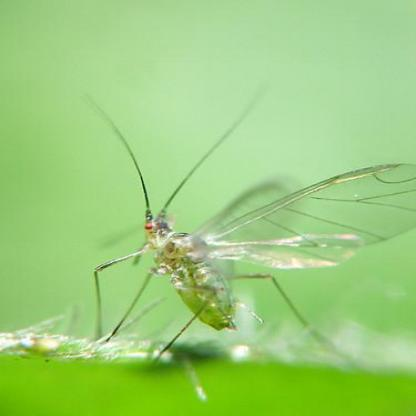aphid: (58, 102, 416, 382)
